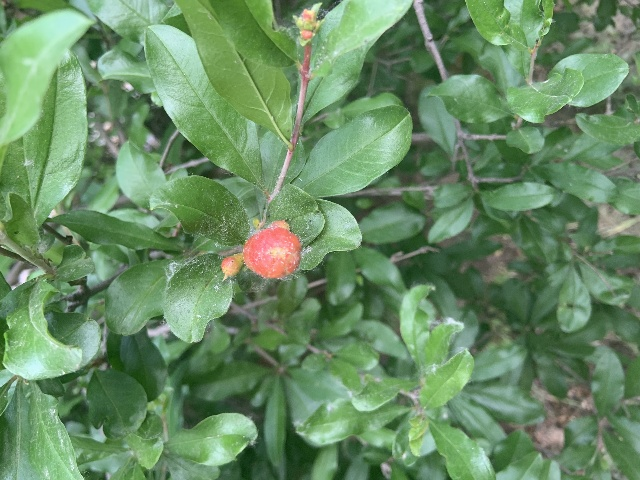bud: (243, 227, 300, 278), (220, 253, 244, 276), (270, 221, 290, 230)
